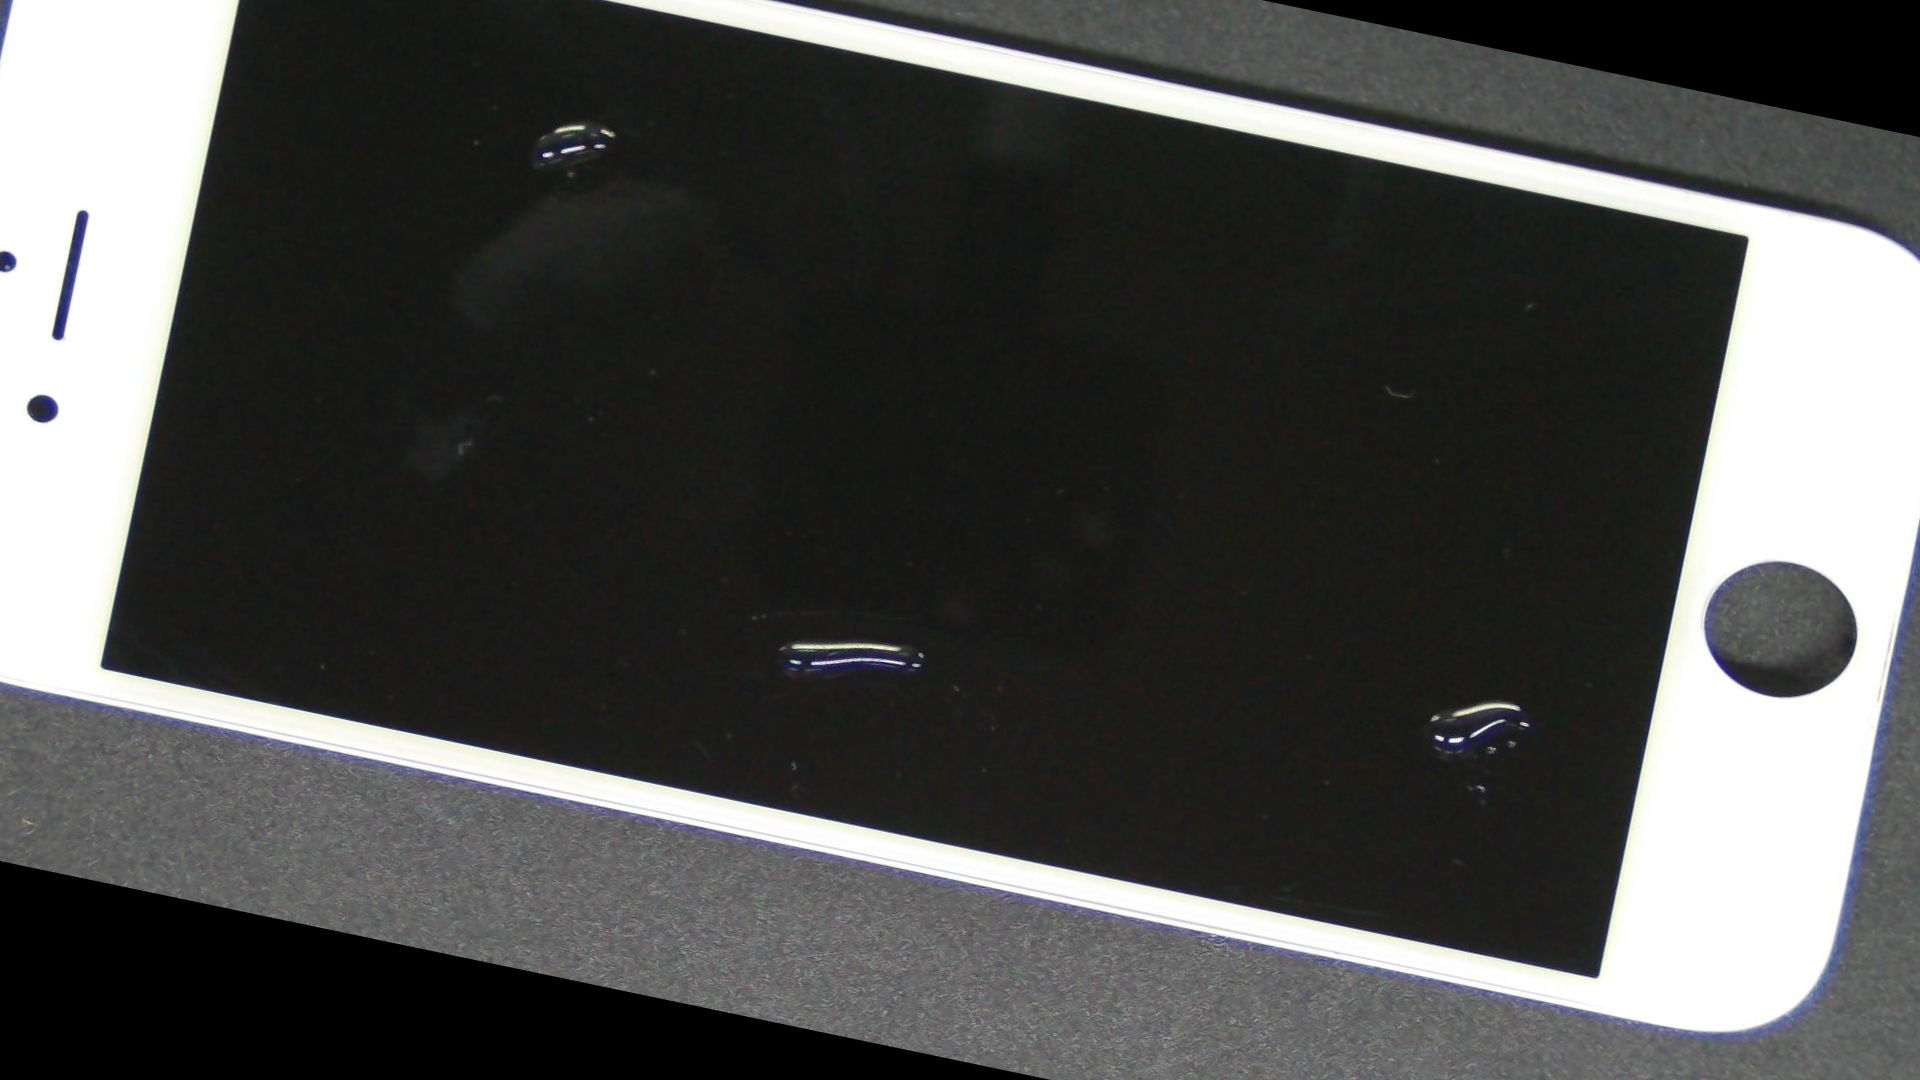oil: (592, 211, 1920, 1080), (293, 186, 1556, 1080), (216, 0, 963, 318)
